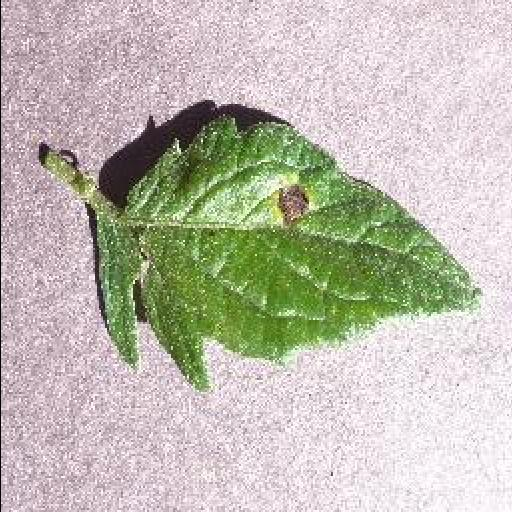disease_tomato: (80, 106, 482, 391)
